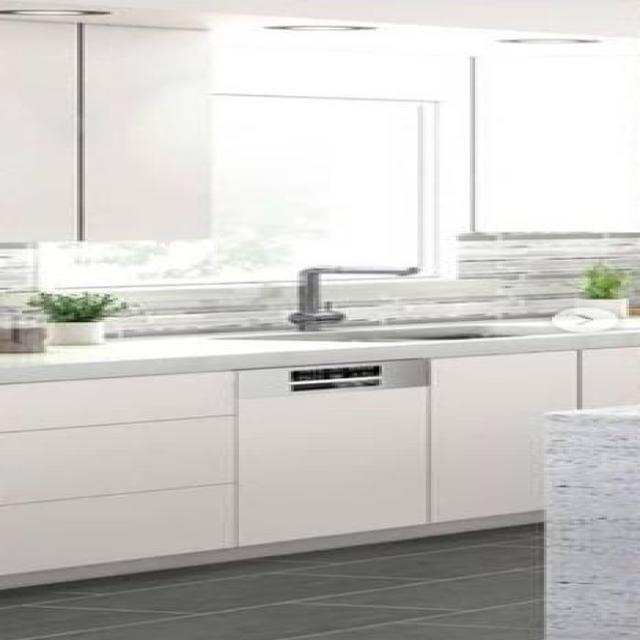dishwasher: (230, 356, 426, 545)
